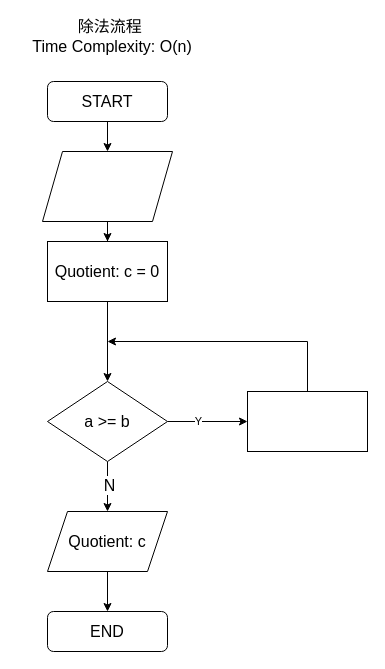
Some shapes in this 385 by 669 pixel diagram are drawn without their labels. The shapes that lost their labels are listed below. From the top down, each one's box as (x1, y1, x2, y2) in pixels, then its label:
(42, 150, 172, 222): Dividend: a Divisor: b
(246, 390, 368, 452): a = a - b c += 1
